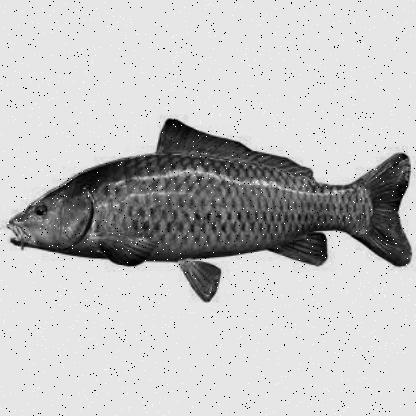ikan-mas: (6, 134, 410, 272)
